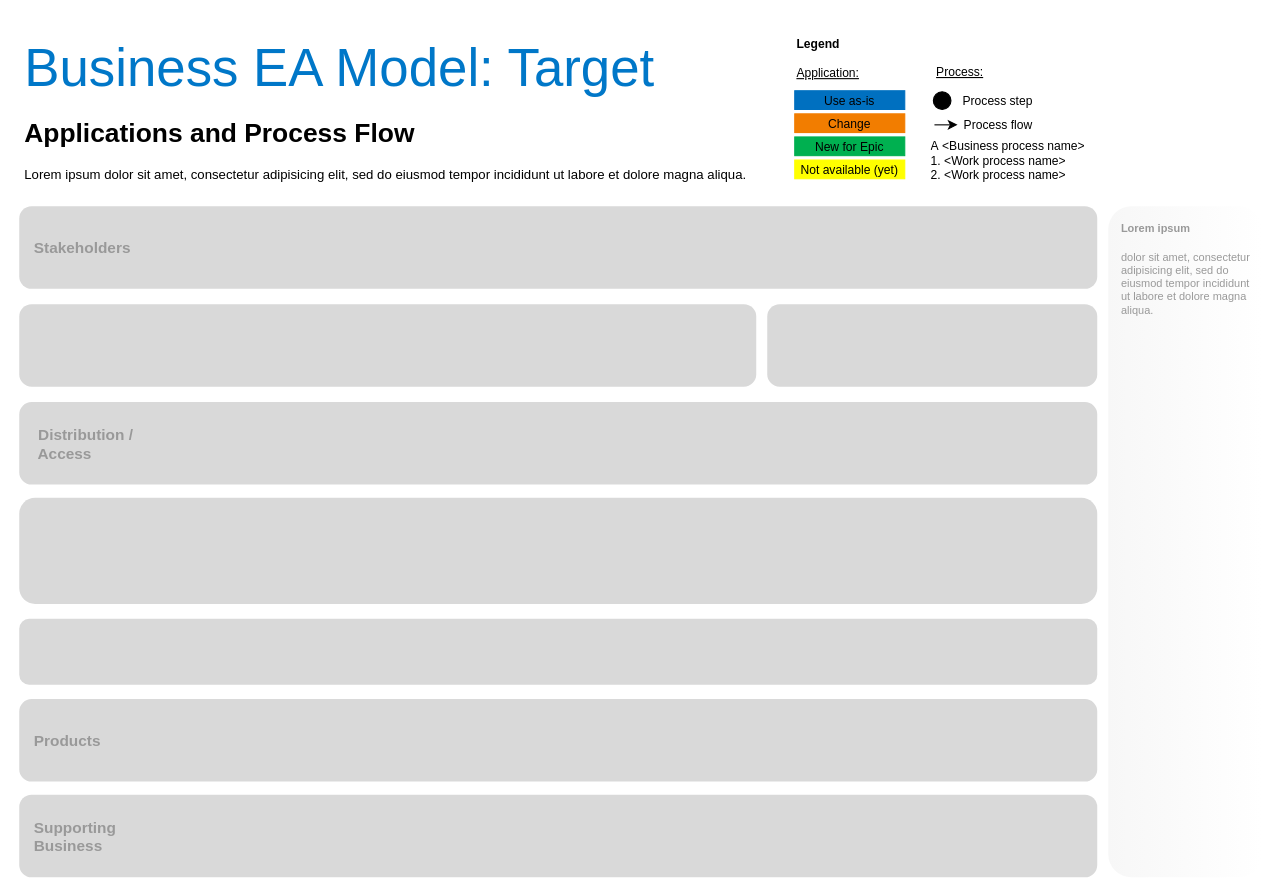
Image size: 1280x895. Some labels were removed from this diagram. Here are the shapes that lost their labels. From the top down, the centre of each, then its label:
(x=387, y=345): Communication channels
(x=932, y=345): Data Channels Inbound
(x=558, y=550): Customer Service Delivery
(x=558, y=651): Infomation management
